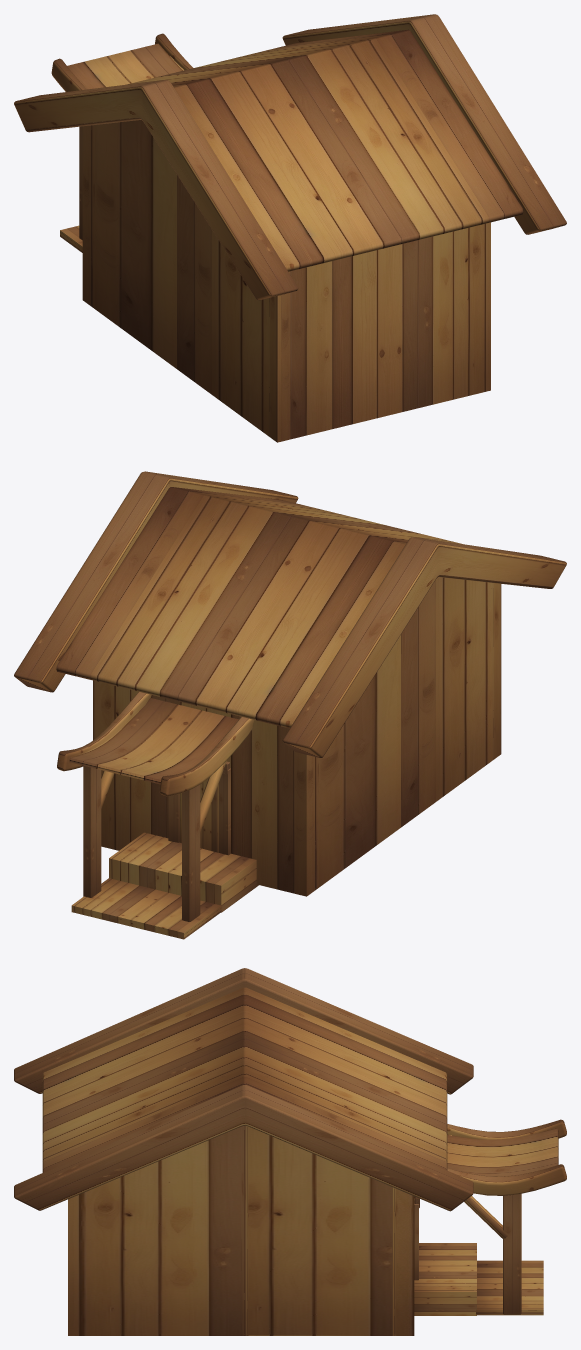
Rendered from Level_2Huts.fbx.
The picture shows the model from 3 angles, top to bottom: view 1: azimuth 30°, elevation 25°; view 2: azimuth 150°, elevation 25°; view 3: azimuth 270°, elevation 25°; orthographic projection. The views are drawn at different scales.
Visible parts, largest first — view 1: roof_top5; view 2: roof_top5; view 3: roof_top5.
Part boxes in pixels (x1,y1,x2,y2): roof_top5: [14, 14, 566, 442]; roof_top5: [14, 471, 566, 939]; roof_top5: [14, 968, 566, 1335].
Bounding box in the file's own units: 36.85 × 34.87 × 66.64.
Materials: 1 (1 with a texture image).
